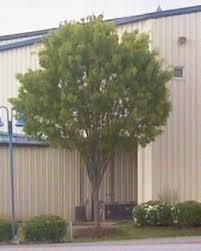tree: (11, 12, 174, 229)
